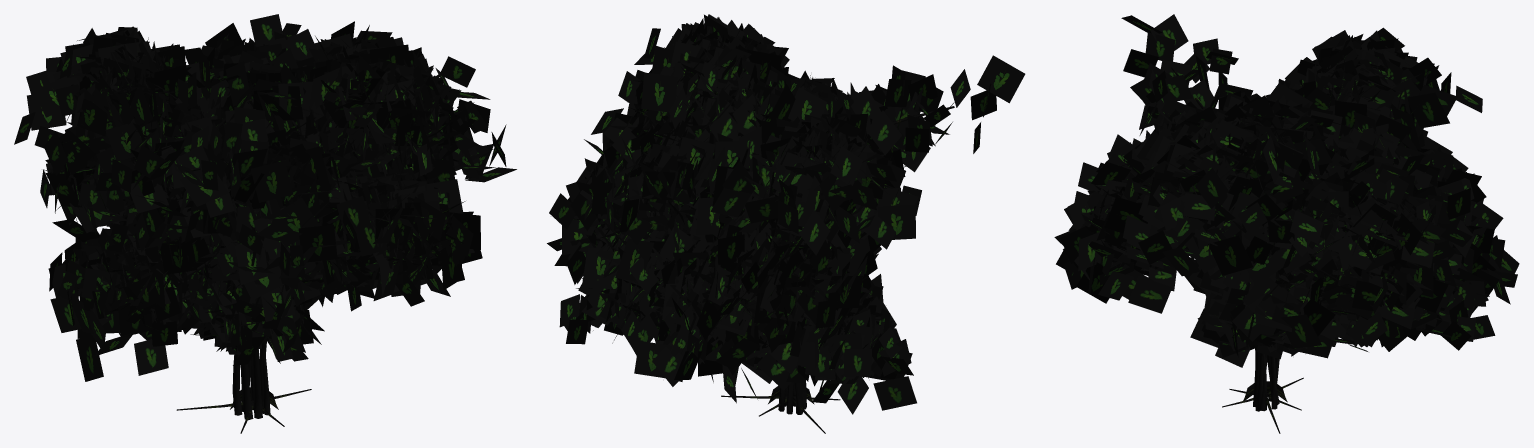
File: Shrub_Spicebush_0.glb
3 views of the same model, side by side, from view 1: azimuth 30°, elevation 25°; view 2: azimuth 150°, elevation 25°; view 3: azimuth 270°, elevation 25° (orthographic). The views are drawn at different scales.
Parts seen in each view (by area): view 1: Shrub_Spicebush_0; view 2: Shrub_Spicebush_0; view 3: Shrub_Spicebush_0.
Boxes of the visible parts, x1,y1,x2,y2 form: Shrub_Spicebush_0: (14,14,516,433); Shrub_Spicebush_0: (547,14,1025,433); Shrub_Spicebush_0: (1054,14,1519,433).
Bounding box in the file's own units: 3.34 × 2.98 × 3.71.
Materials: 1 (1 with a texture image).
